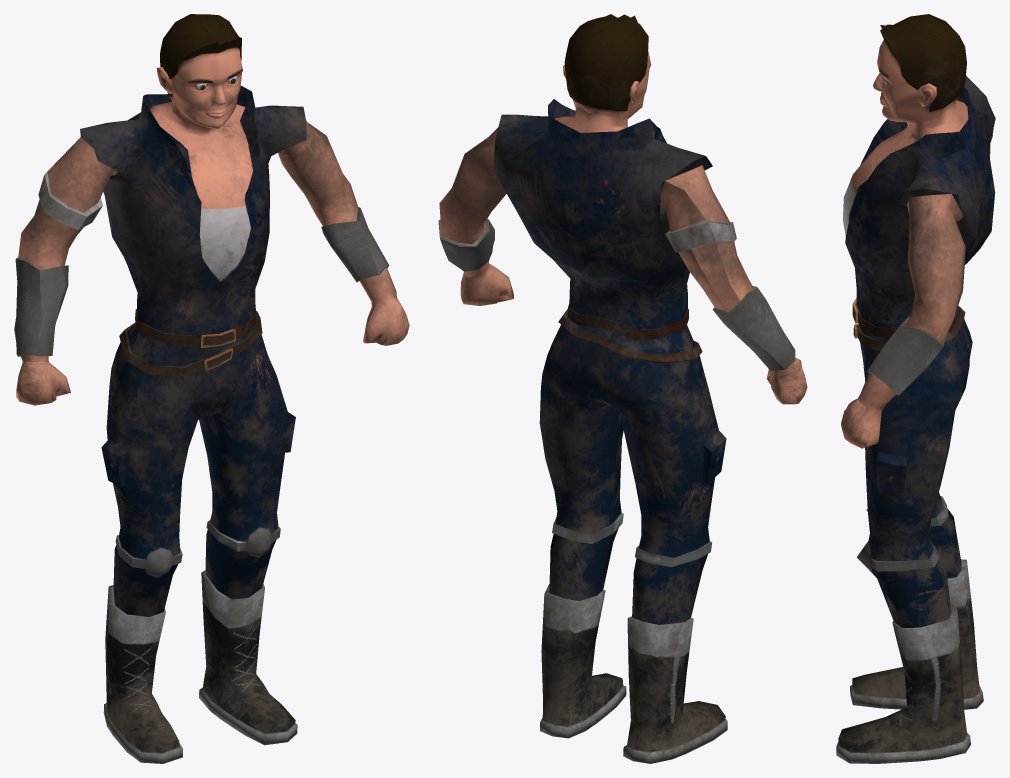
File: Anim_dash_jugador.0015.obj
The picture shows the model from 3 angles, left to right: view 1: azimuth 30°, elevation 25°; view 2: azimuth 150°, elevation 25°; view 3: azimuth 270°, elevation 25°; orthographic projection.
Visible parts, largest first — view 1: polySurface1; view 2: polySurface1; view 3: polySurface1.
Boxes of the visible parts, x1,y1,x2,y2 form: polySurface1: (14, 14, 409, 763); polySurface1: (438, 14, 807, 763); polySurface1: (836, 14, 995, 763).
Size of the model in its own units: 5.18 by 9.58 by 1.93.
